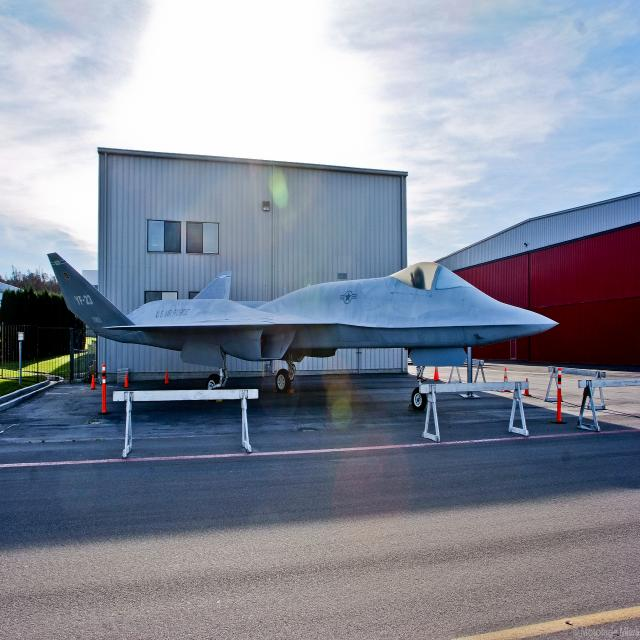MIL_Plane: (45, 252, 558, 412)
